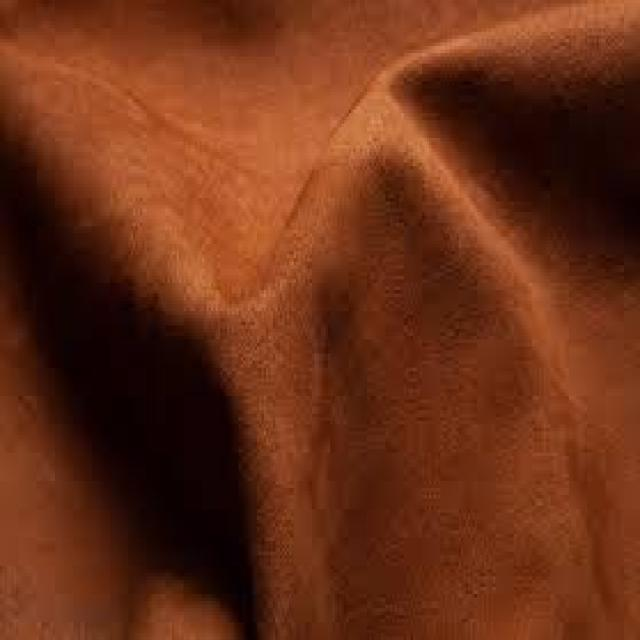Crease: (160, 188, 370, 383), (422, 128, 547, 348)
